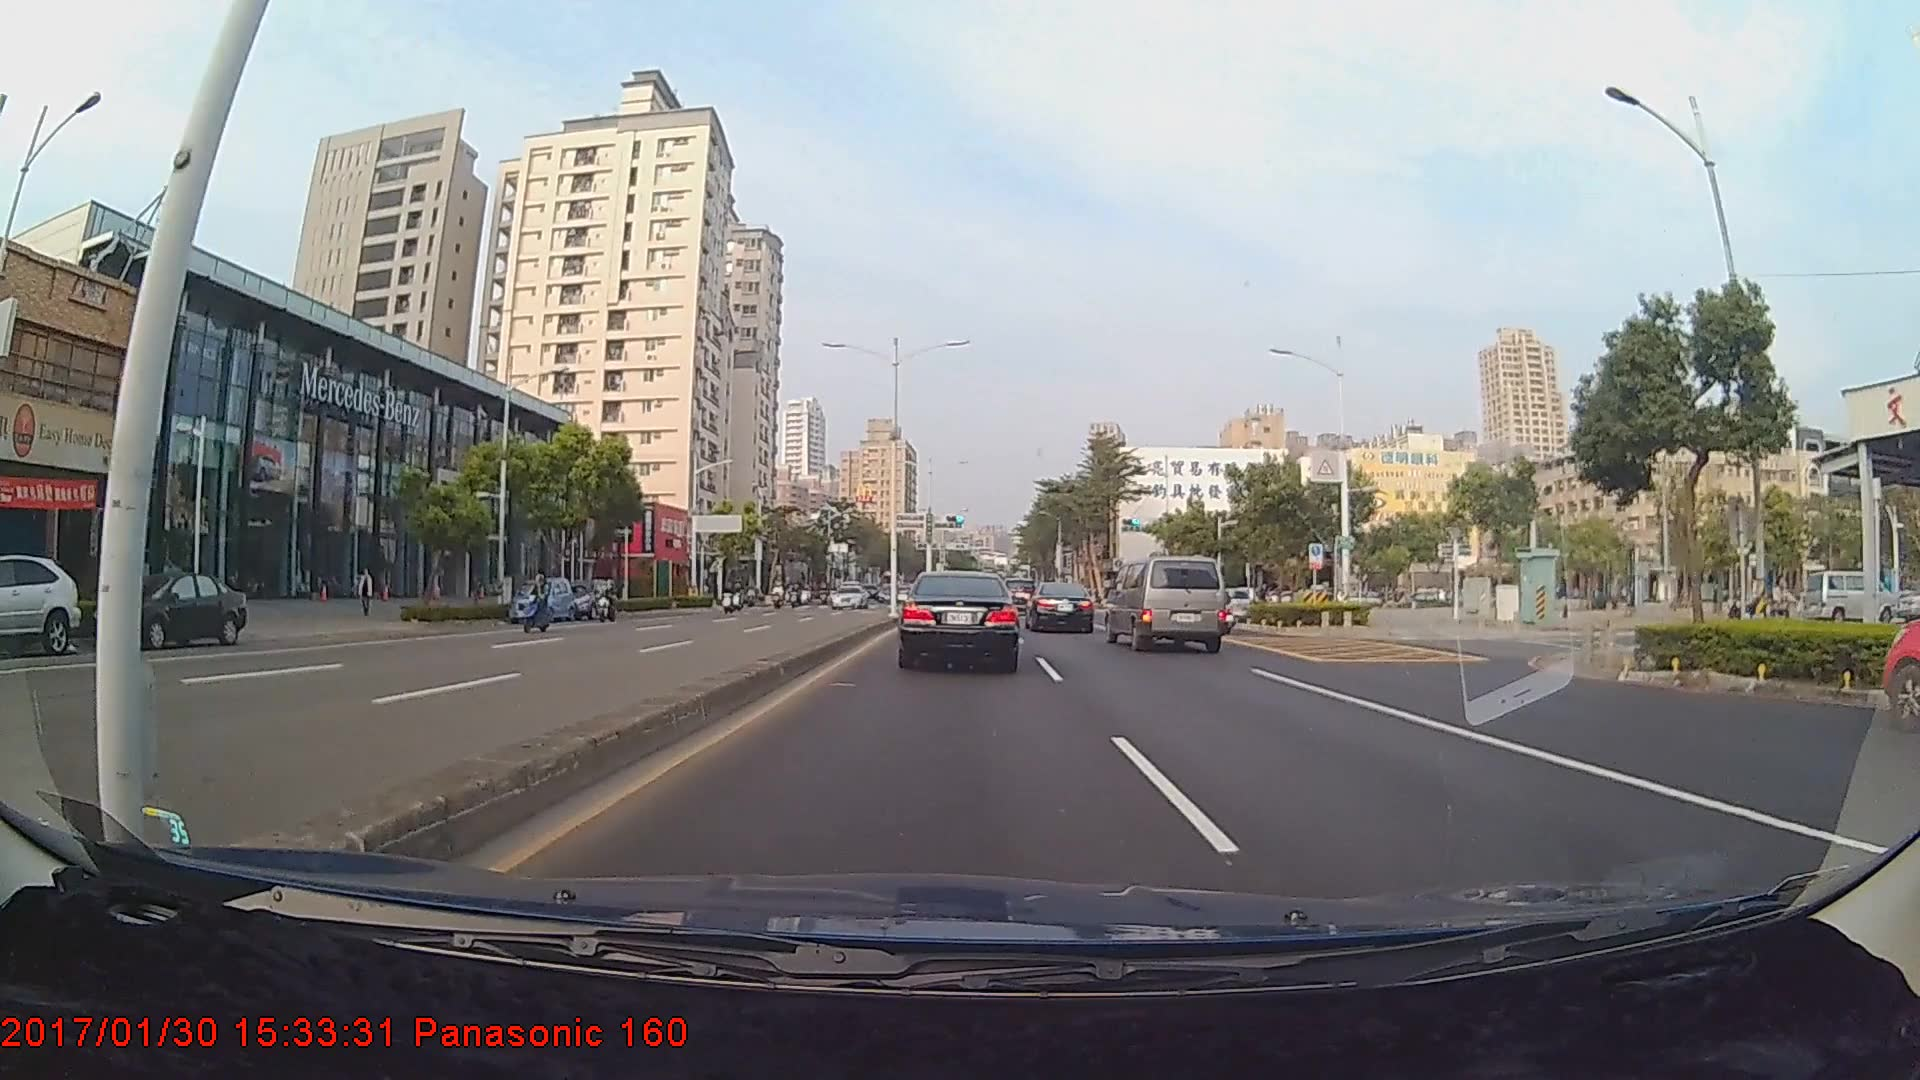pedestrian: (356, 566, 378, 620)
rider: (522, 571, 557, 638), (596, 580, 626, 626)
vehicle: (87, 569, 248, 650), (901, 567, 1018, 672), (1107, 554, 1227, 652), (0, 554, 80, 660), (1025, 581, 1096, 634), (509, 577, 575, 624), (560, 579, 613, 622), (830, 583, 867, 607)
